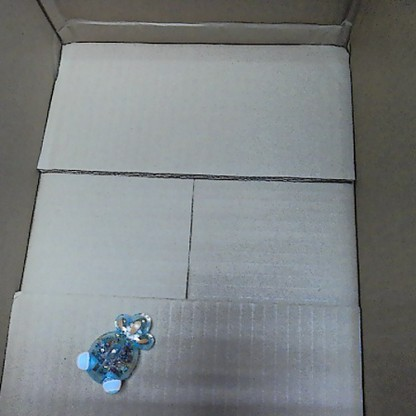bluefish: (72, 307, 154, 394)
